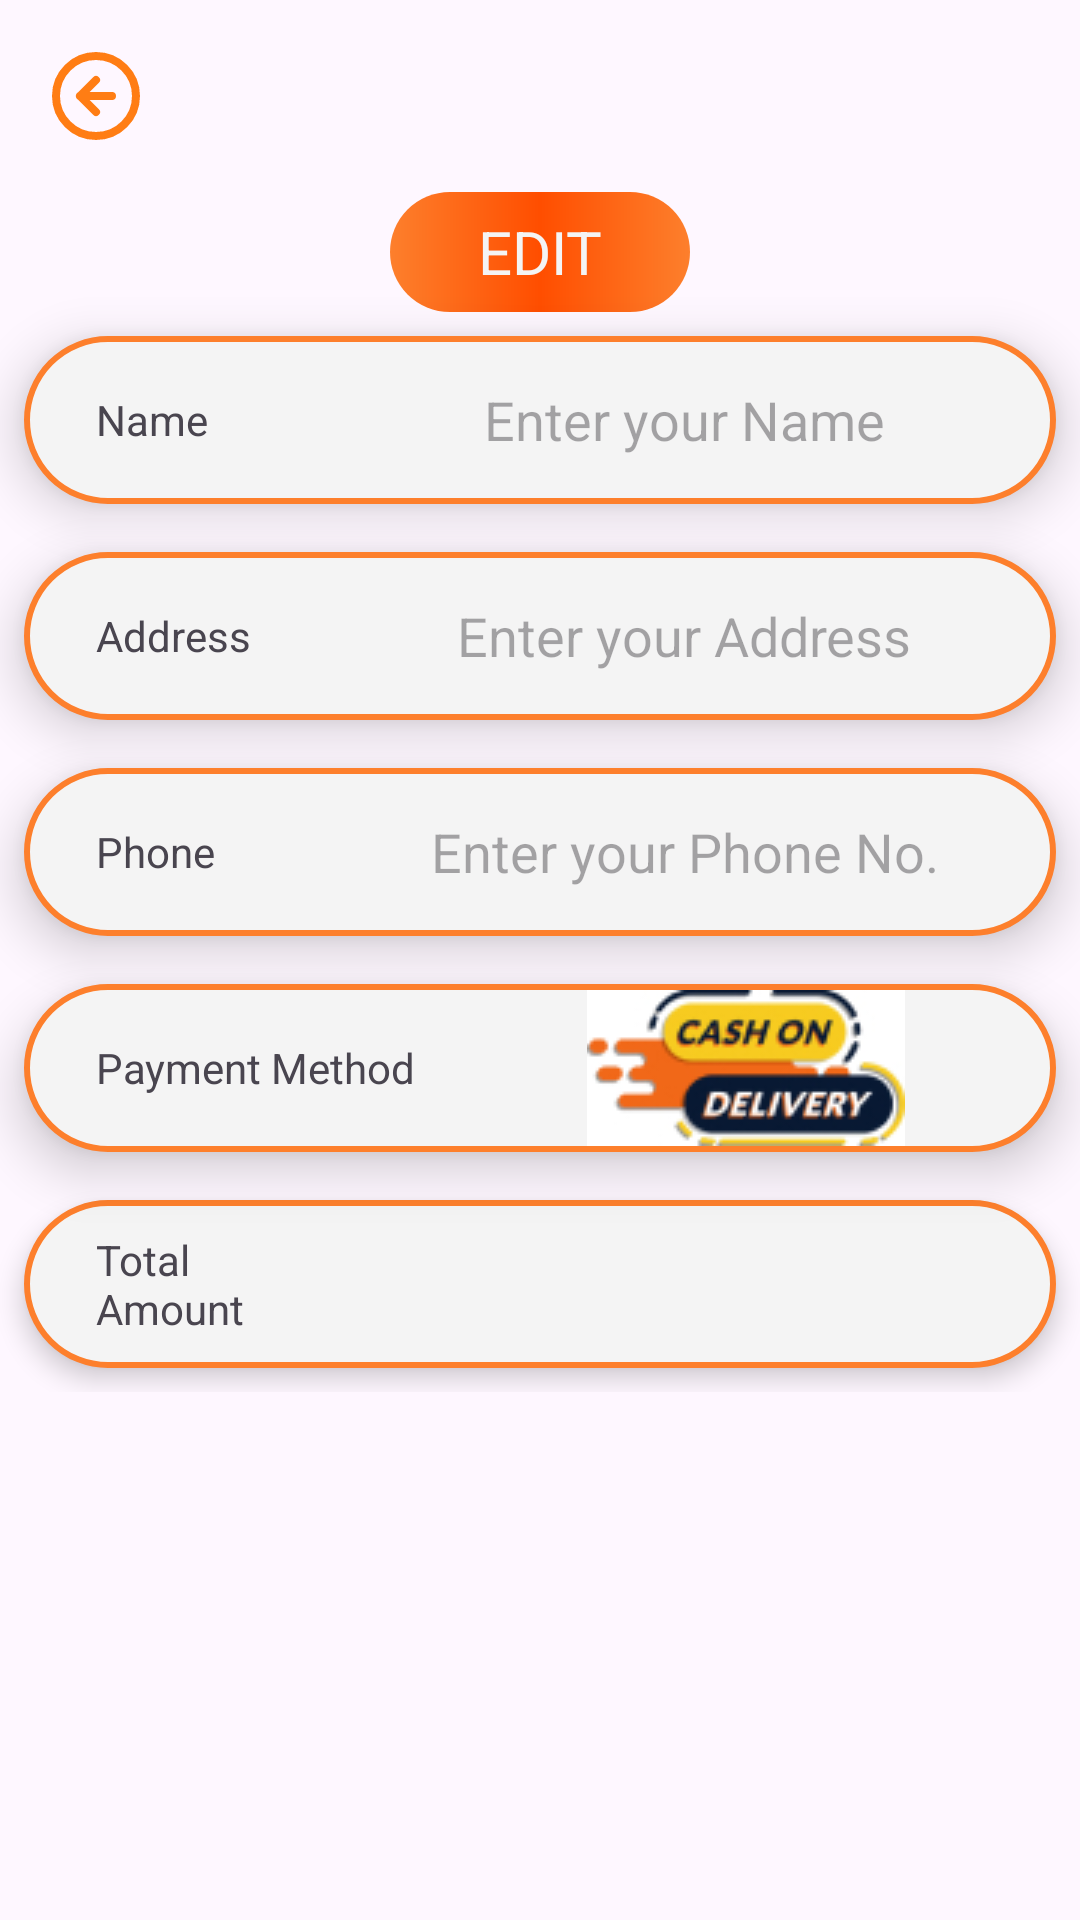

Named icons in this screenshot (1080px×1920px) and their centers, [x,y]:
arrow circle left: [96,96]
